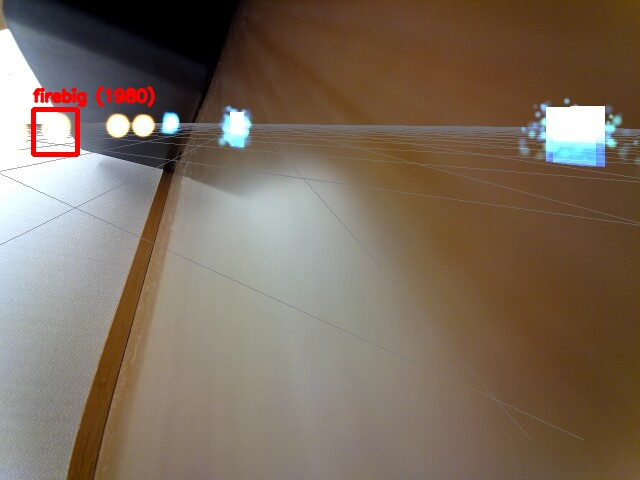firebig: (33, 109, 77, 154)
